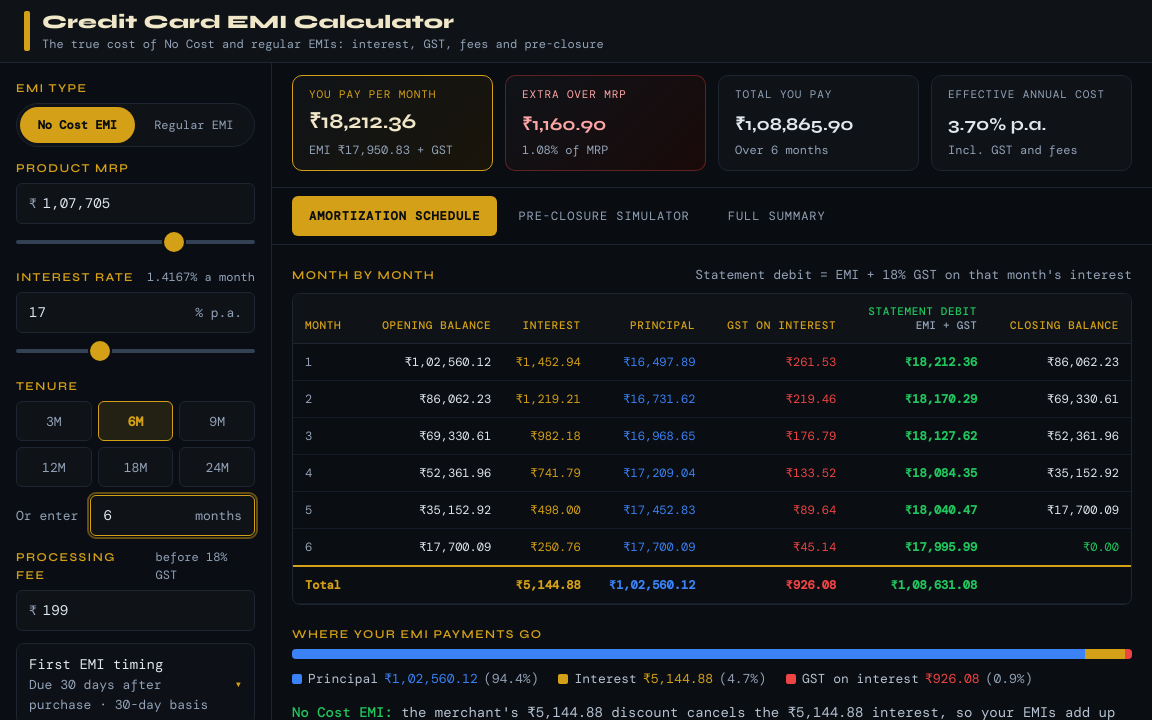
it: number fields keep the user's draft › commits and closes the keyboard on Enter
Replace the text in the field named "Or enter tenure in months" with "99" at (146, 516), box [103,496,189,535]
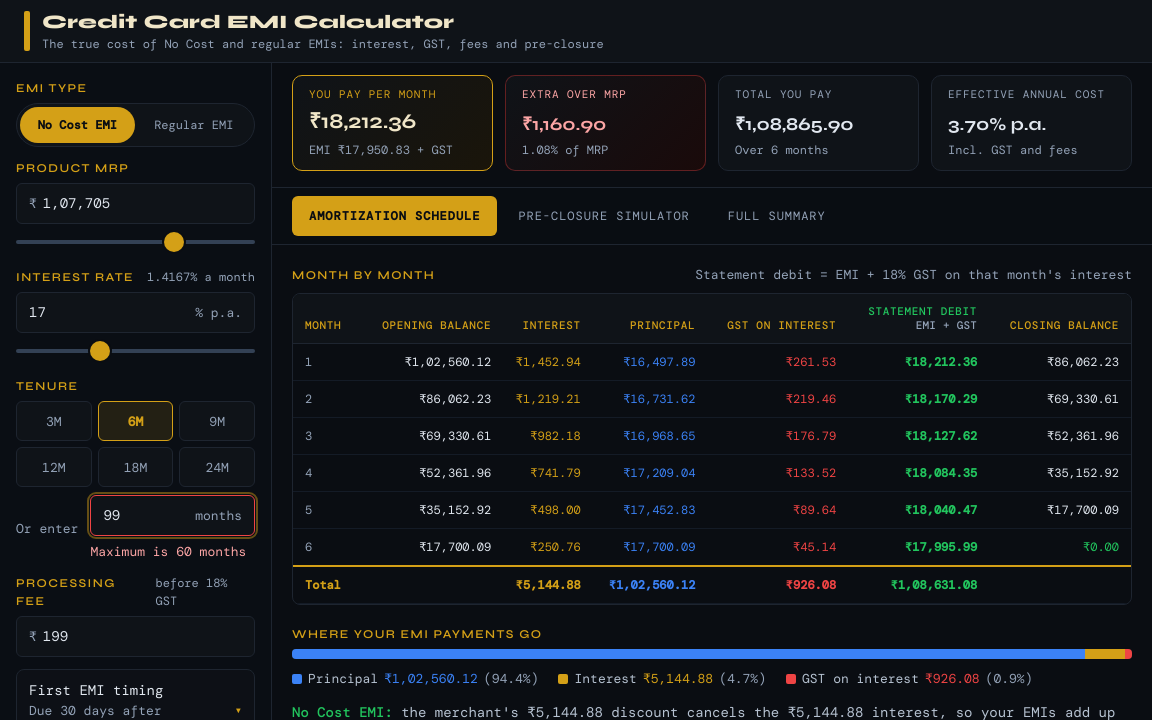
Press Enter in the field named "Or enter tenure in months", box [103,496,189,535]
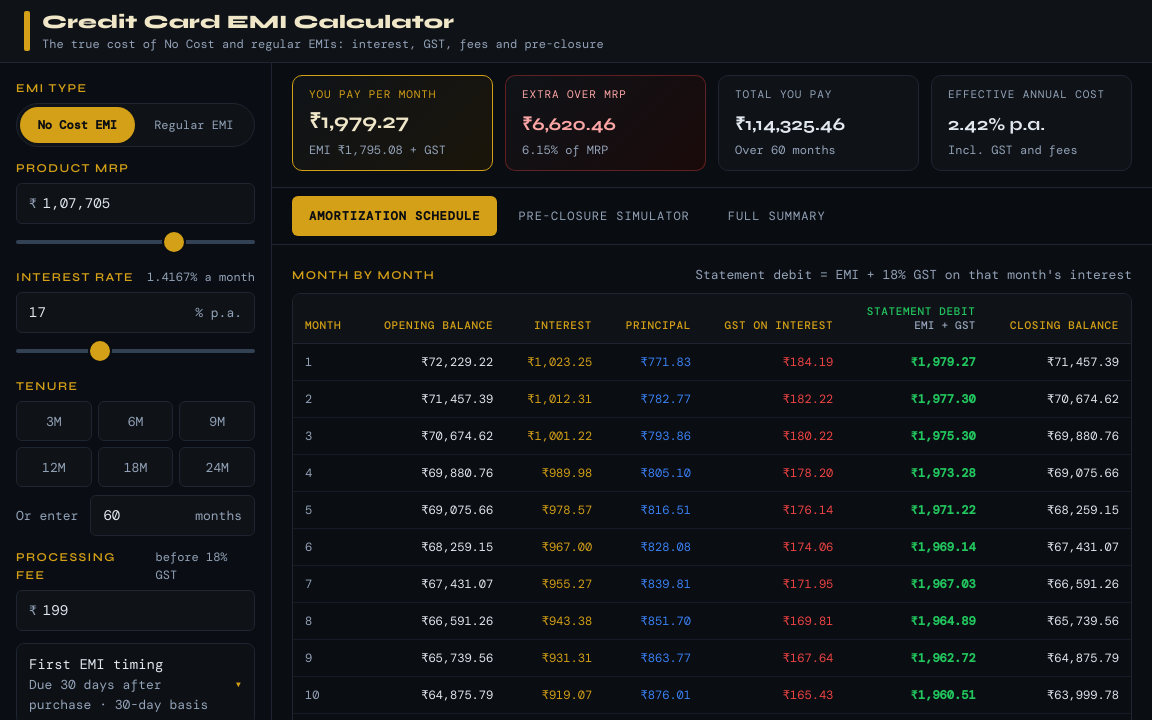
Now the field named "Or enter tenure in months" holds "60", box [103,496,189,535]
